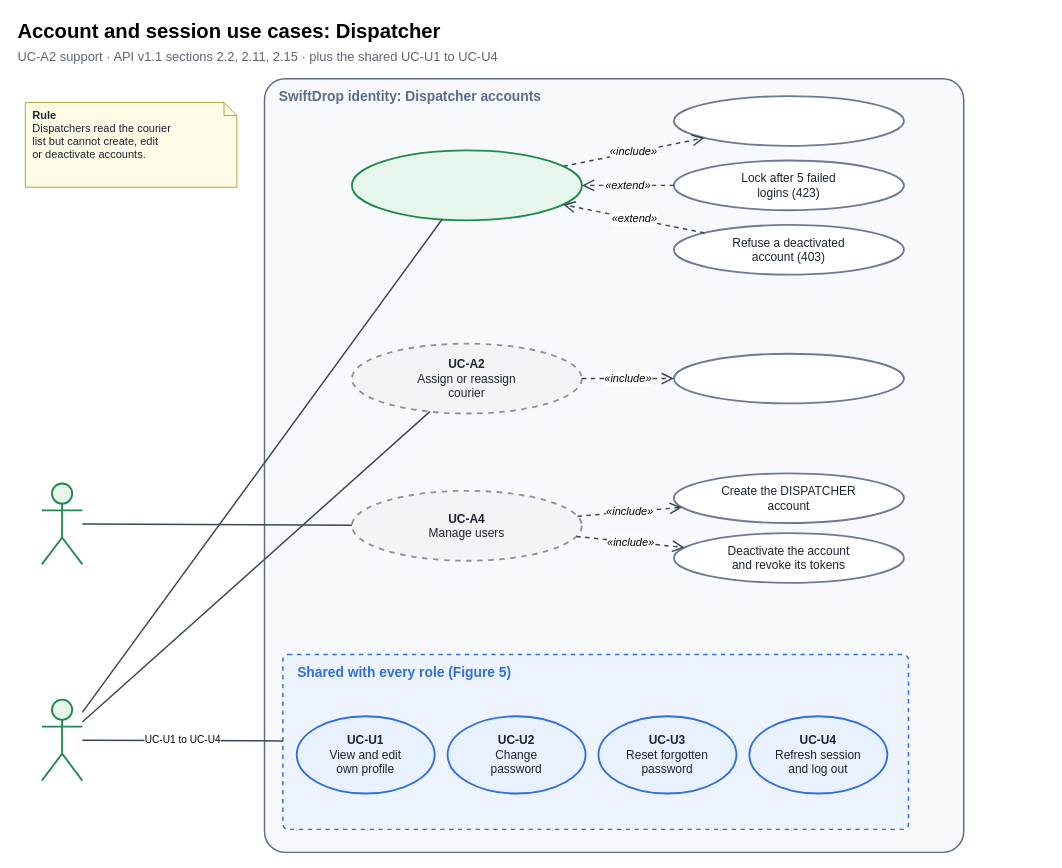
Some shapes in this 1062 by 868 pixel diagram are drawn without their labels. The centre of each missing label's shape, as x and y in pixels:
"Admin" belongs at point (61, 523).
"Dispatcher" belongs at point (61, 739).
"List active couriers by availability and zone" belongs at point (788, 378).
"Log in with email and password" belongs at point (466, 185).
"Set sd_access and sd_refresh cookies" belongs at point (788, 120).
